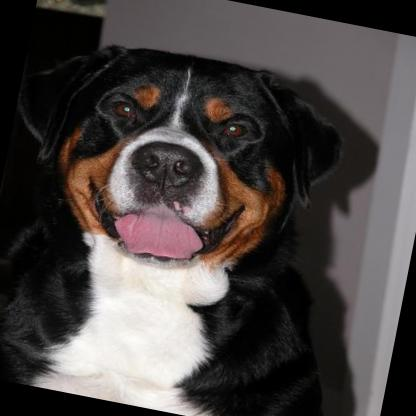Greater_Swiss_Mountain_dog: (0, 22, 381, 416)
